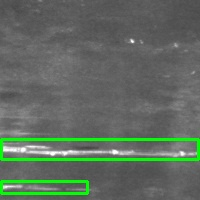scratches: (1, 139, 198, 159), (1, 181, 87, 193)
